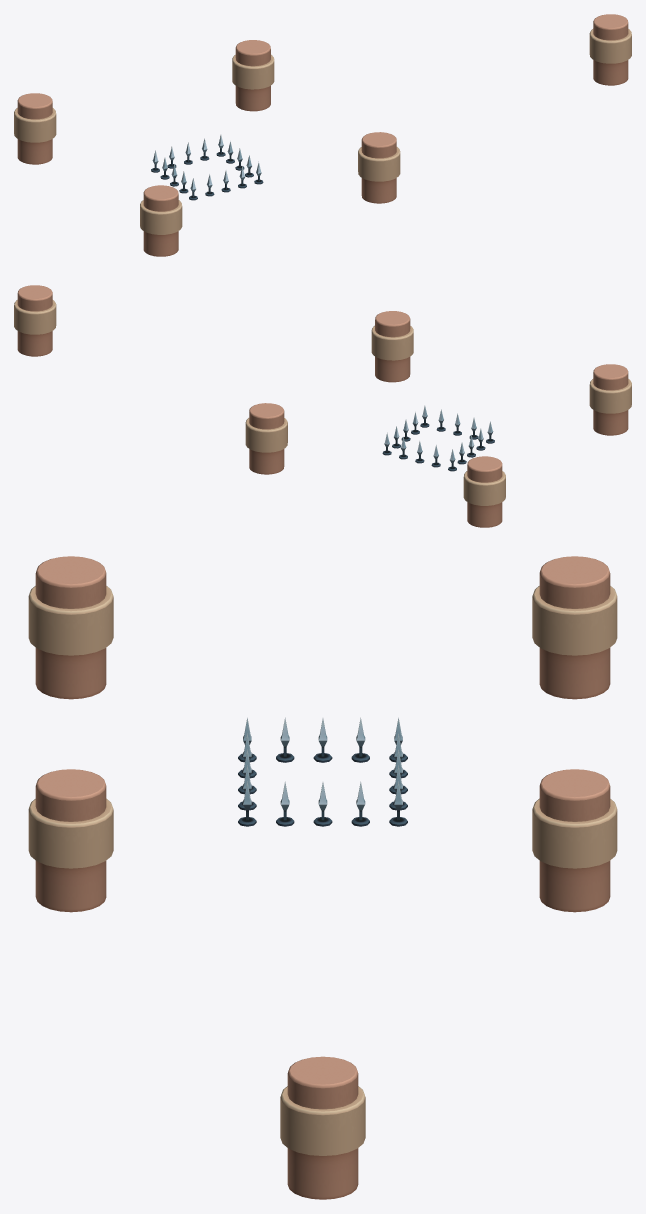
The model's file is Props.fbx.
The picture shows the model from 3 angles, top to bottom: view 1: azimuth 30°, elevation 25°; view 2: azimuth 150°, elevation 25°; view 3: azimuth 270°, elevation 25°; orthographic projection. The views are drawn at different scales.
Parts seen in each view (by area): view 1: Cylinder-2 (1), Cylinder-2, Cylinder-2 (2), Cylinder-2 (3), Cylinder-2 (4); view 2: Cylinder-2 (3), Cylinder-2, Cylinder-2 (1), Cylinder-2 (4), Cylinder-2 (2); view 3: Cylinder-2 (1), Cylinder-2 (3), Cylinder-2, Cylinder-2 (2), Cylinder-2 (4).
Boxes of the visible parts, box(x1,y1,x2,y2) form: Cylinder-2 (1): box(140, 185, 182, 256); Cylinder-2: box(589, 14, 631, 85); Cylinder-2 (2): box(358, 132, 400, 203); Cylinder-2 (3): box(14, 93, 56, 164); Cylinder-2 (4): box(232, 40, 274, 111); Cylinder-2 (3): box(463, 456, 505, 527); Cylinder-2: box(14, 285, 56, 356); Cylinder-2 (1): box(589, 364, 631, 435); Cylinder-2 (4): box(245, 403, 287, 474); Cylinder-2 (2): box(371, 311, 413, 382); Cylinder-2 (1): box(28, 556, 113, 699); Cylinder-2 (3): box(532, 556, 617, 699); Cylinder-2: box(280, 1056, 365, 1199); Cylinder-2 (2): box(28, 769, 113, 912); Cylinder-2 (4): box(532, 769, 617, 912).
Bounding box in the file's own units: 50.38 × 5 × 23.38.
2 materials, 2 textured.
